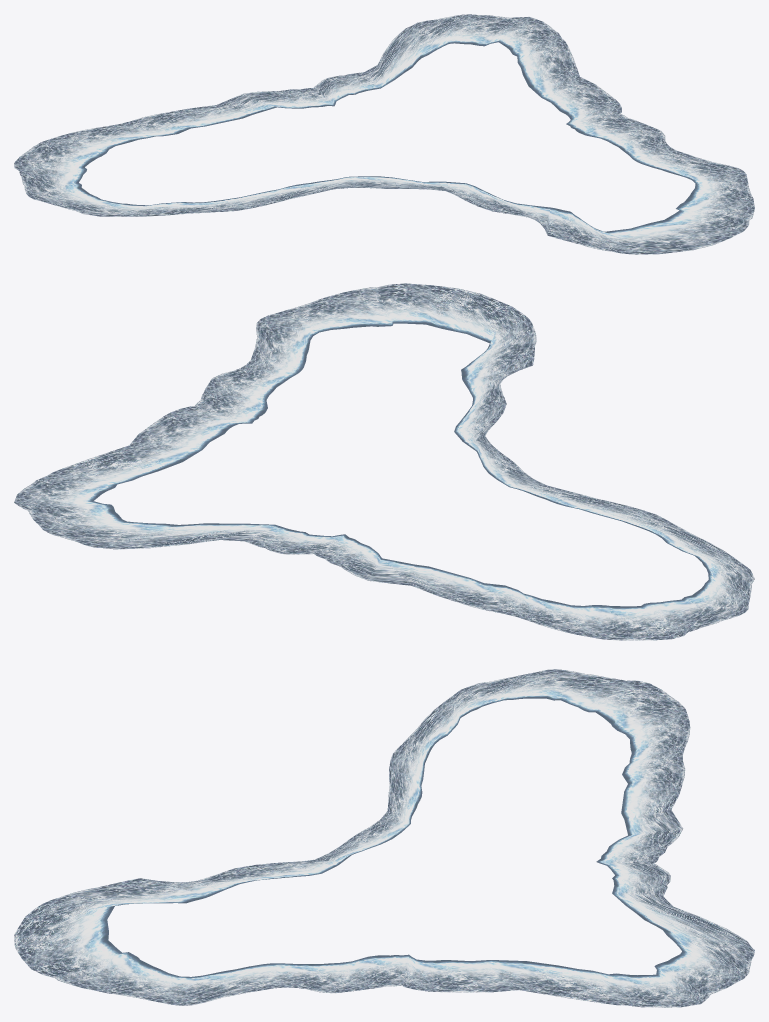
File: snow_island_03_coast.fbx
3 renders of one model, top to bottom at view 1: azimuth 30°, elevation 25°; view 2: azimuth 150°, elevation 25°; view 3: azimuth 270°, elevation 25°, orthographic. The views are drawn at different scales.
Visible parts, largest first — view 1: snow_island_03_coast; view 2: snow_island_03_coast; view 3: snow_island_03_coast.
Boxes of the visible parts, box(x1,y1,x2,y2) form: snow_island_03_coast: box(14, 14, 754, 254); snow_island_03_coast: box(14, 283, 754, 640); snow_island_03_coast: box(14, 669, 754, 1007).
Size of the model in its own units: 1.17 by 0 by 1.08.
